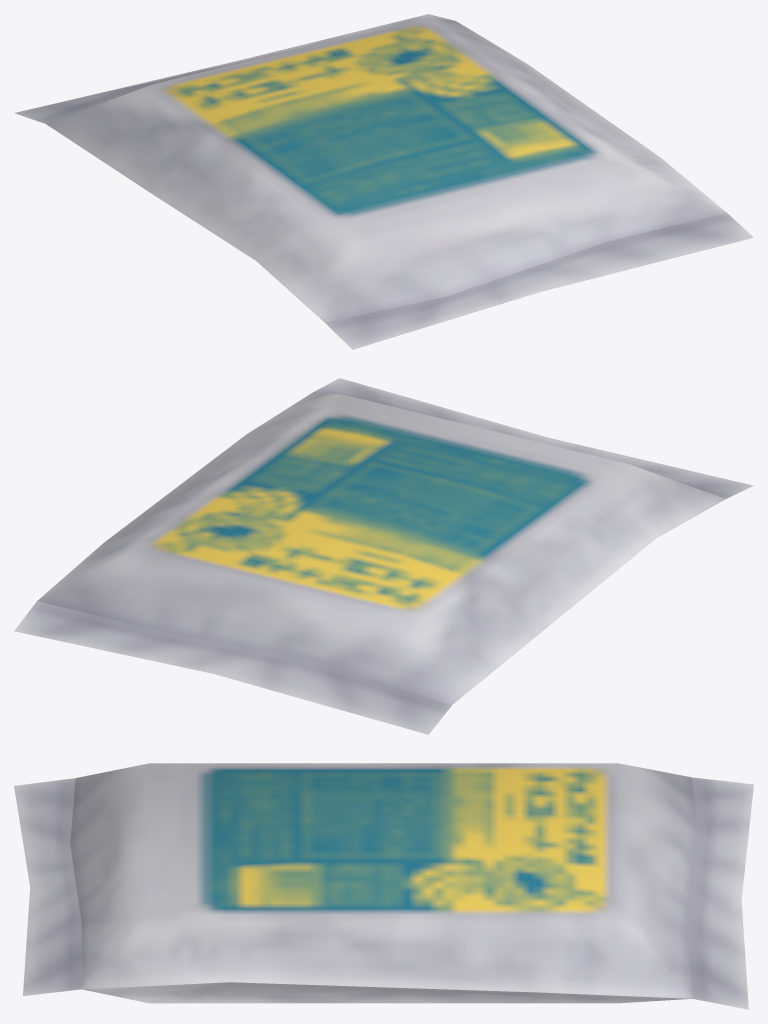
File: jsf_Bagging_Chocolate_07.fbx
3 renders of one model, top to bottom at view 1: azimuth 30°, elevation 25°; view 2: azimuth 150°, elevation 25°; view 3: azimuth 270°, elevation 25°, orthographic. The views are drawn at different scales.
Parts seen in each view (by area): view 1: jsf_Bagging_Chocolate_07; view 2: jsf_Bagging_Chocolate_07; view 3: jsf_Bagging_Chocolate_07.
Part boxes in pixels (left/top/right/bottom): jsf_Bagging_Chocolate_07: left=14, top=14, right=753, bottom=349; jsf_Bagging_Chocolate_07: left=14, top=378, right=753, bottom=734; jsf_Bagging_Chocolate_07: left=14, top=763, right=753, bottom=1009.
Bounding box in the file's own units: 21.61 × 4.3 × 29.63.
